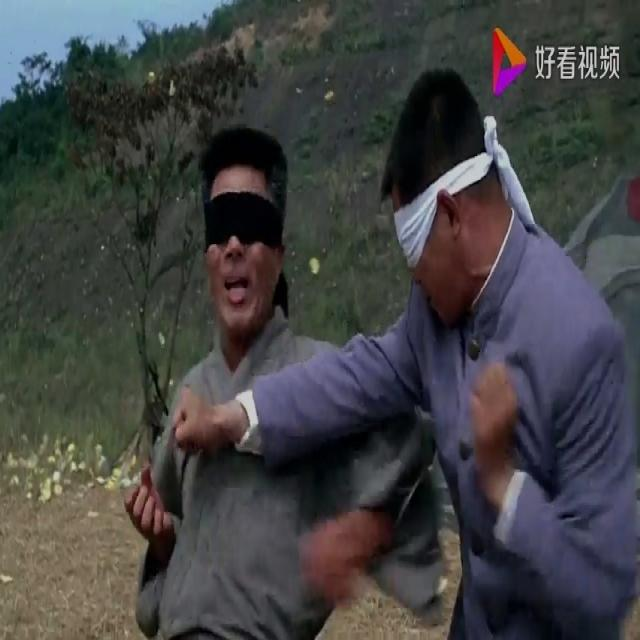fight: (122, 63, 640, 640)
